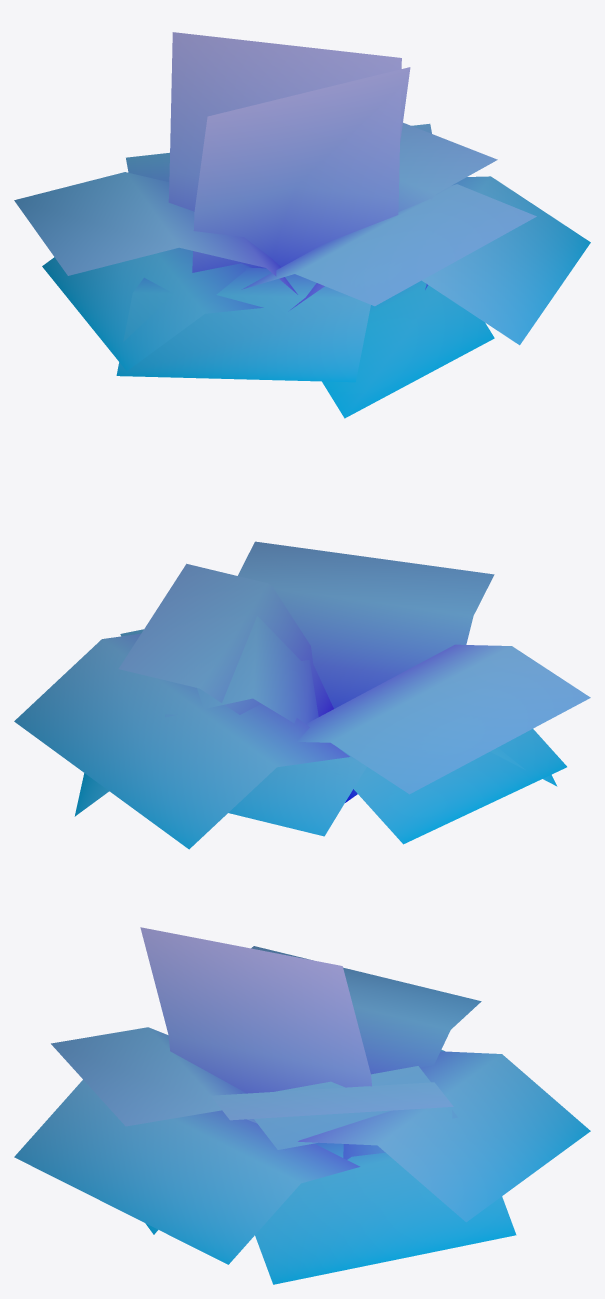
The model's file is SM_Env_Grass_Bush_01.glb.
The picture shows the model from 3 angles, top to bottom: view 1: azimuth 30°, elevation 25°; view 2: azimuth 150°, elevation 25°; view 3: azimuth 270°, elevation 25°; orthographic projection. The views are drawn at different scales.
Visible parts, largest first — view 1: SM_Env_Grass_Bush_01_LOD0; view 2: SM_Env_Grass_Bush_01_LOD0; view 3: SM_Env_Grass_Bush_01_LOD0.
Part boxes in pixels (box(x1,y1,x2,y2)): SM_Env_Grass_Bush_01_LOD0: box(14, 32, 590, 418); SM_Env_Grass_Bush_01_LOD0: box(14, 541, 590, 849); SM_Env_Grass_Bush_01_LOD0: box(14, 927, 590, 1284).
Size of what is drawn, in the model's own units: 2.28 by 1.2 by 2.31.
